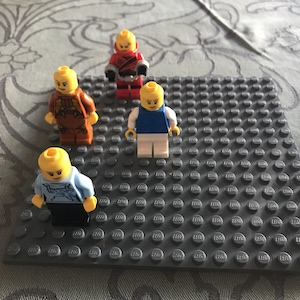Lego: (28, 149, 97, 226), (46, 65, 98, 146), (126, 81, 179, 159), (105, 29, 148, 98)
